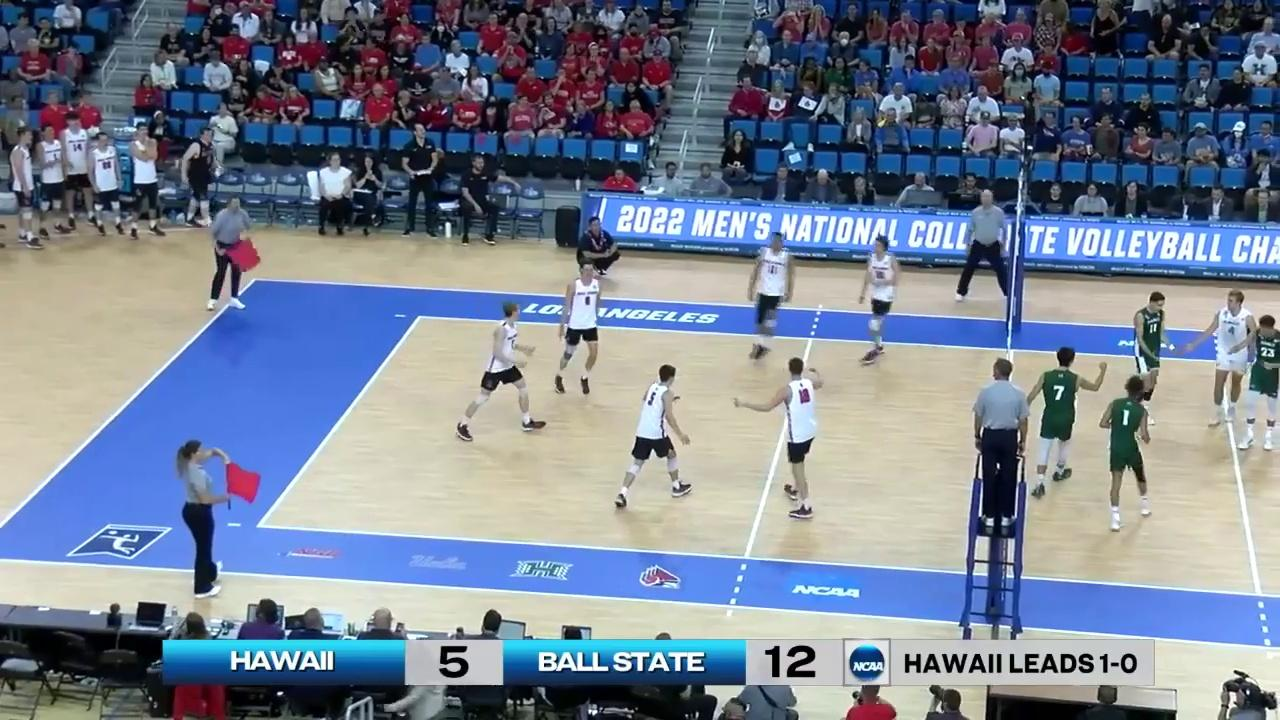player: (615, 365, 698, 508), (453, 302, 542, 434), (759, 359, 819, 517), (1098, 375, 1157, 531), (1032, 342, 1086, 494), (552, 260, 605, 398), (1204, 292, 1253, 428), (743, 233, 791, 354), (1131, 290, 1173, 427), (856, 234, 899, 364), (1239, 315, 1279, 453)
refree: (177, 439, 243, 598), (973, 357, 1030, 533), (956, 185, 1012, 302), (208, 194, 257, 308)
